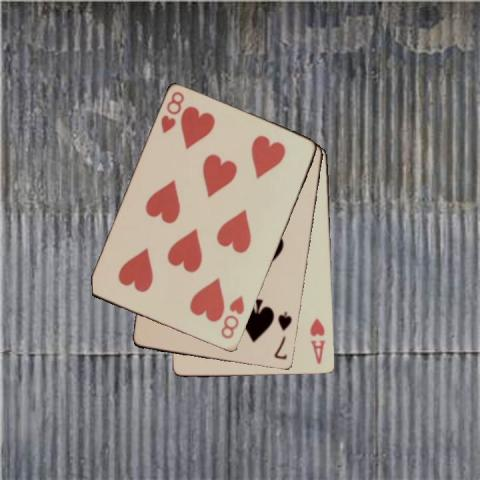7s: (271, 309, 294, 361)
8h: (217, 293, 246, 341), (158, 89, 186, 135)
Ah: (308, 316, 328, 366)
